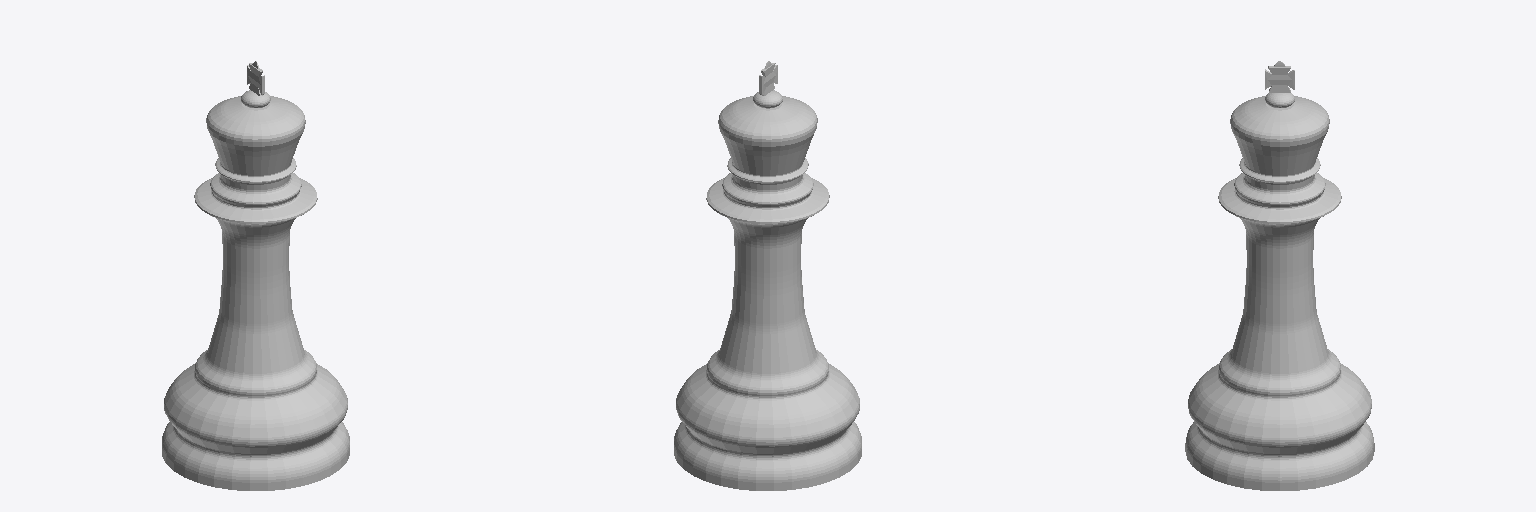
Rendered from king.obj.
3 views of the same model, side by side, from view 1: azimuth 30°, elevation 25°; view 2: azimuth 150°, elevation 25°; view 3: azimuth 270°, elevation 25° (orthographic).
Parts seen in each view (by area): view 1: Dark_King_Cube.002; view 2: Dark_King_Cube.002; view 3: Dark_King_Cube.002.
Part boxes in pixels (bbox=[...]): Dark_King_Cube.002: bbox=[162, 61, 349, 490]; Dark_King_Cube.002: bbox=[674, 61, 861, 490]; Dark_King_Cube.002: bbox=[1185, 61, 1374, 490].
Size of the model in its own units: 1.4 by 3.18 by 1.4.